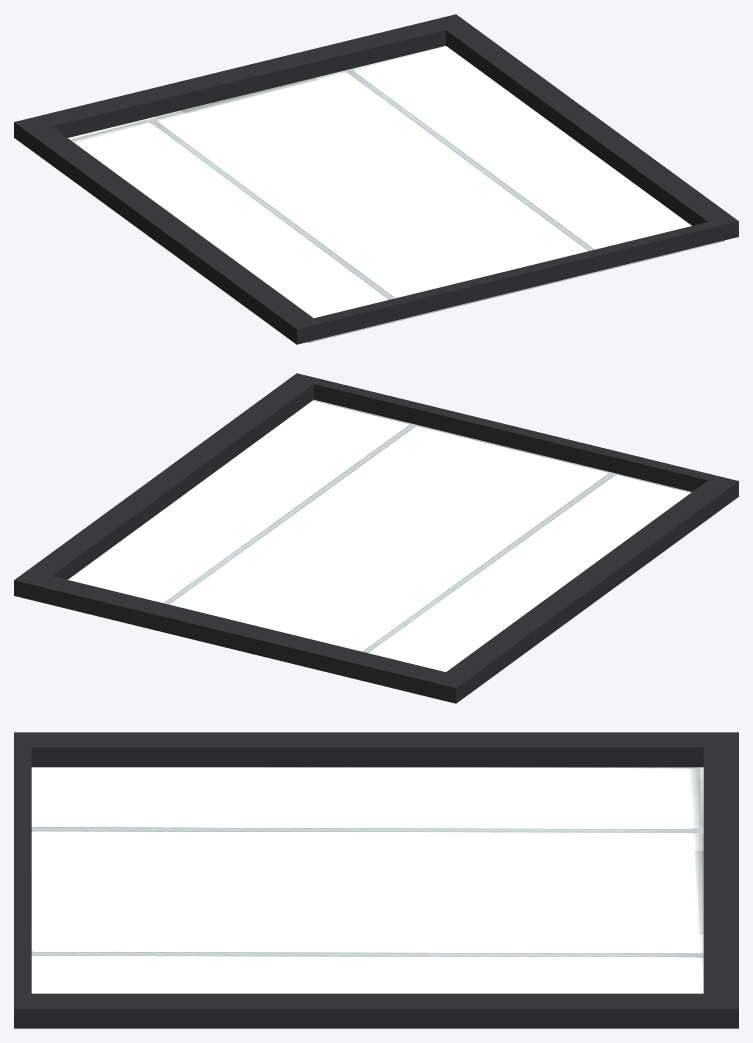
The model's file is ceiling_DD202.glb.
3 views of the same model, one above another, from view 1: azimuth 30°, elevation 25°; view 2: azimuth 150°, elevation 25°; view 3: azimuth 270°, elevation 25° (orthographic). The views are drawn at different scales.
Visible parts, largest first — view 1: Ceiling_Shell, Ceiling_Mirror, Ceiling_Panel_R, Ceiling_Panel_L; view 2: Ceiling_Shell, Ceiling_Mirror, Ceiling_Panel_R, Ceiling_Panel_L; view 3: Ceiling_Shell, Ceiling_Mirror, Ceiling_Panel_L, Ceiling_Panel_R.
Boxes of the visible parts, x1,y1,x2,y2 form: Ceiling_Shell: [14, 14, 738, 344]; Ceiling_Mirror: [173, 76, 592, 310]; Ceiling_Panel_R: [322, 46, 726, 273]; Ceiling_Panel_L: [68, 112, 442, 343]; Ceiling_Shell: [14, 373, 738, 703]; Ceiling_Mirror: [192, 430, 586, 646]; Ceiling_Panel_R: [68, 400, 437, 609]; Ceiling_Panel_L: [341, 466, 691, 671]; Ceiling_Shell: [14, 732, 738, 1028]; Ceiling_Mirror: [31, 845, 703, 939]; Ceiling_Panel_L: [31, 767, 703, 845]; Ceiling_Panel_R: [31, 939, 703, 993].
Bounding box in the file's own units: 1.48 × 0.056 × 1.64.
3 materials, 1 textured.
